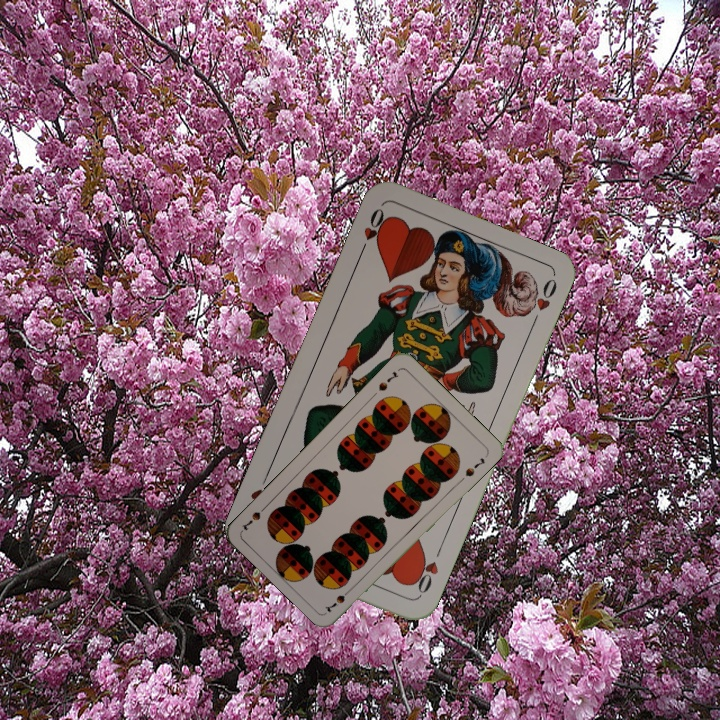HO: (408, 542, 445, 598), (355, 203, 390, 259)
S7: (322, 583, 356, 615), (374, 367, 401, 394)
